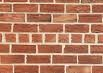brick: (79, 13, 103, 24), (78, 54, 103, 64), (14, 4, 39, 13), (53, 13, 78, 22), (11, 45, 36, 54), (1, 13, 25, 22), (27, 13, 51, 22), (1, 55, 24, 64), (65, 24, 90, 32), (40, 4, 64, 12), (66, 4, 90, 12), (39, 24, 63, 32), (26, 55, 50, 63), (14, 24, 37, 32), (65, 45, 88, 53), (14, 65, 39, 72), (40, 65, 65, 72), (38, 46, 62, 53), (54, 55, 75, 63), (67, 66, 91, 72), (1, 2, 12, 13), (58, 33, 69, 43), (1, 23, 13, 32), (18, 34, 30, 43), (5, 33, 16, 42), (45, 34, 56, 43), (71, 34, 82, 43), (84, 34, 95, 43), (91, 24, 103, 32), (91, 46, 103, 54), (92, 5, 103, 13), (32, 35, 43, 43), (1, 44, 10, 53), (1, 66, 13, 72), (93, 66, 103, 72)
